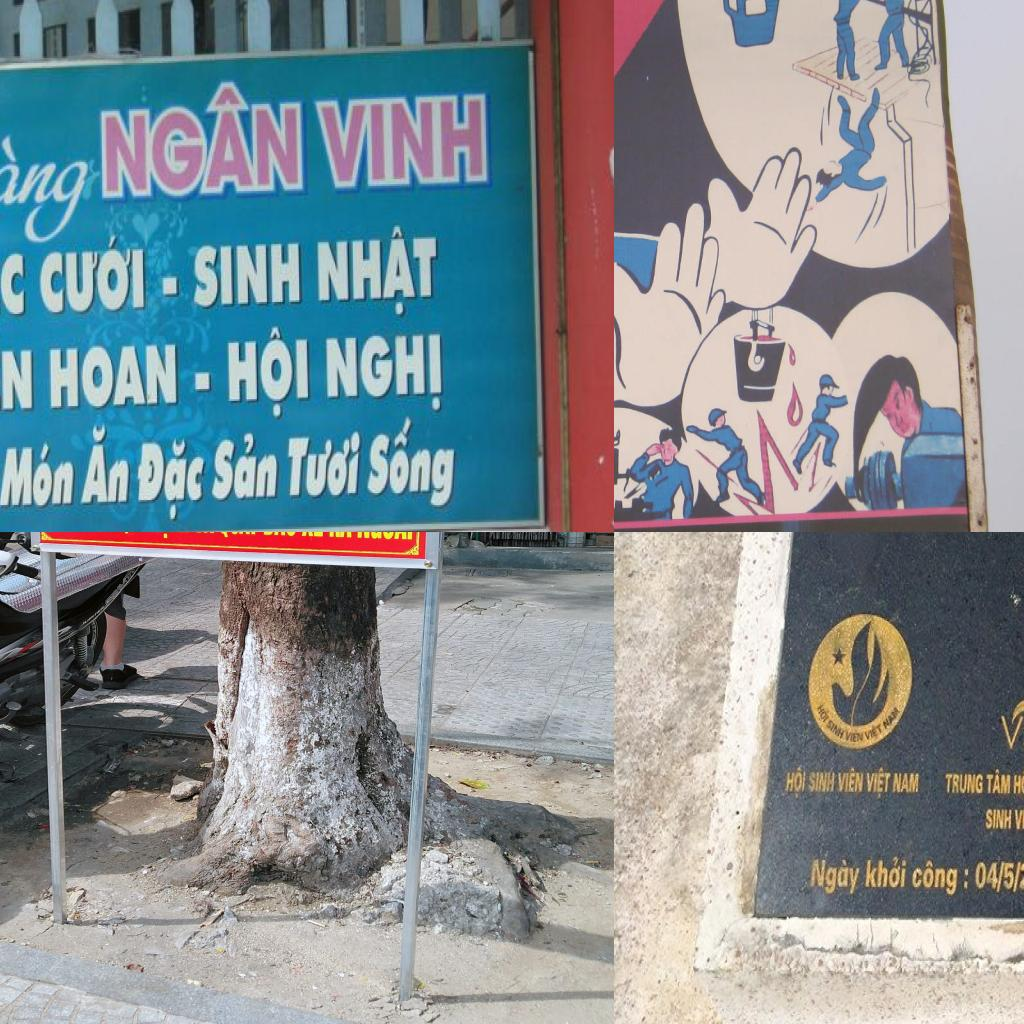text: (98, 82, 308, 203), (313, 92, 491, 191), (316, 227, 441, 316), (0, 127, 95, 242), (324, 333, 442, 413), (39, 235, 147, 321), (48, 344, 178, 410), (226, 326, 310, 418), (193, 242, 302, 309), (135, 437, 206, 519), (285, 433, 363, 502), (209, 428, 280, 502), (0, 437, 75, 507), (78, 427, 132, 505), (0, 338, 32, 413), (807, 857, 863, 896), (911, 860, 970, 897), (0, 242, 23, 329), (974, 860, 1024, 894), (864, 854, 908, 892), (864, 766, 894, 800), (1000, 713, 1024, 753), (944, 773, 984, 795), (784, 766, 808, 802), (837, 766, 866, 795), (807, 770, 837, 796), (985, 769, 1012, 796), (892, 772, 922, 796), (984, 808, 1013, 832), (811, 699, 834, 728), (864, 719, 886, 748), (353, 532, 414, 542), (882, 705, 902, 735), (824, 718, 847, 743), (1013, 763, 1024, 797), (843, 728, 865, 744), (217, 532, 260, 540), (1013, 803, 1024, 831)
